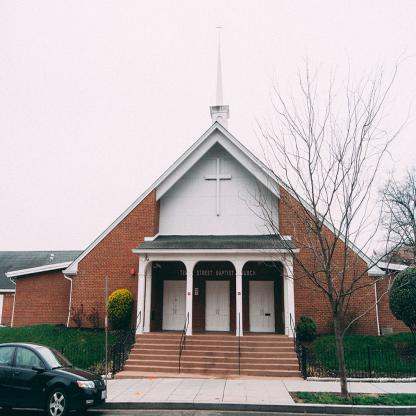Car: (0, 341, 109, 415)
